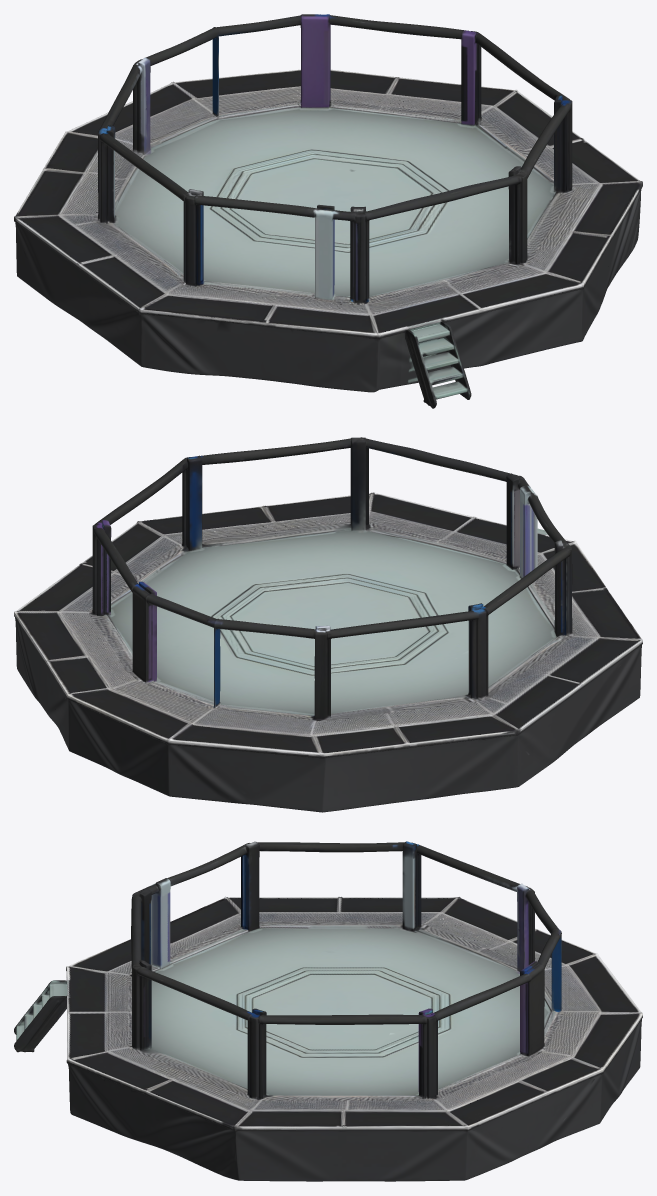
File: Fight_Arena.glb
3 renders of one model, top to bottom at view 1: azimuth 30°, elevation 25°; view 2: azimuth 150°, elevation 25°; view 3: azimuth 270°, elevation 25°, orthographic. The views are drawn at different scales.
Parts seen in each view (by area): view 1: RecenterOffset; view 2: RecenterOffset; view 3: RecenterOffset.
Boxes of the visible parts, box(x1,y1,x2,y2) form: RecenterOffset: box(14, 14, 642, 408); RecenterOffset: box(14, 437, 642, 812); RecenterOffset: box(14, 841, 642, 1181).
Bounding box in the file's own units: 0.9865 × 0.2855 × 1.14.
Materials: 1 (1 with a texture image).
